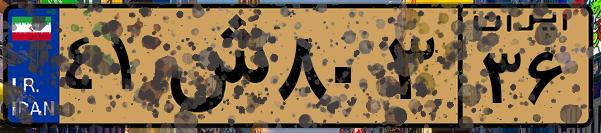0: (330, 28, 385, 110)
1: (110, 28, 158, 98)
3: (385, 28, 445, 110), (475, 38, 525, 113)
4: (57, 26, 110, 100)
6: (525, 38, 570, 115)
8: (270, 28, 330, 110)
ش: (158, 12, 270, 120)
